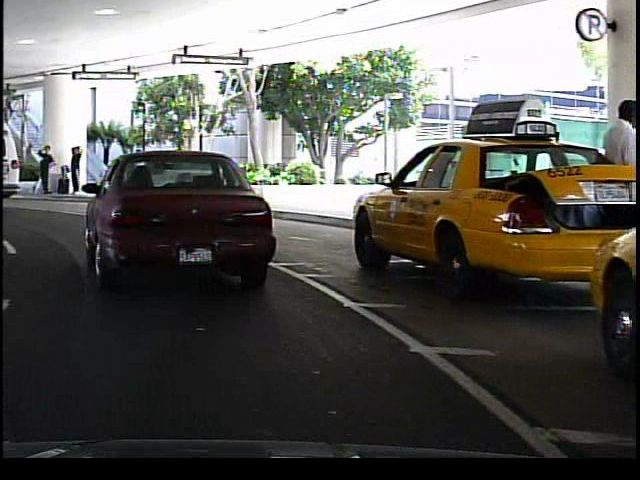person: (581, 99, 636, 263), (122, 144, 151, 201), (32, 141, 54, 200), (64, 142, 83, 199)
